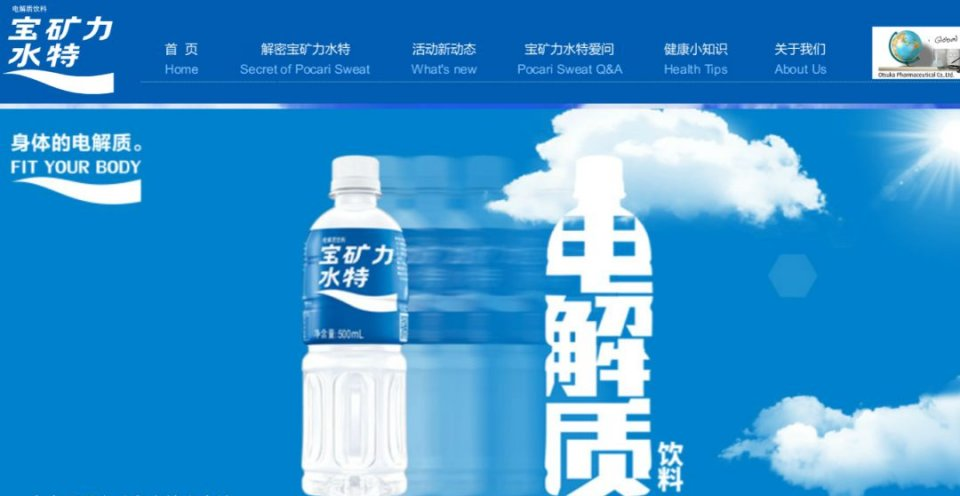POCARI SWEAT: (298, 148, 405, 496)
